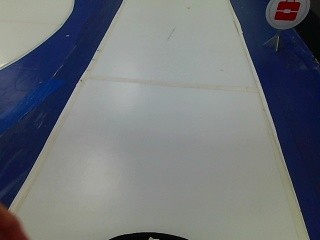company: (261, 0, 309, 32)
